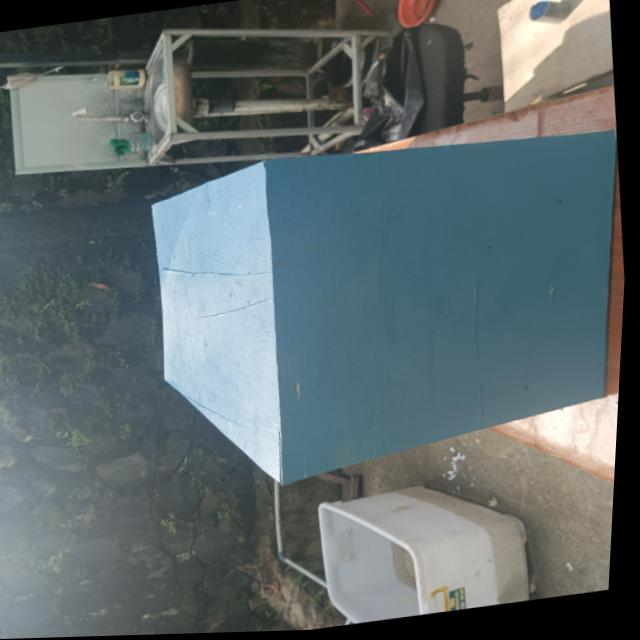blue_box: (134, 115, 635, 493)
